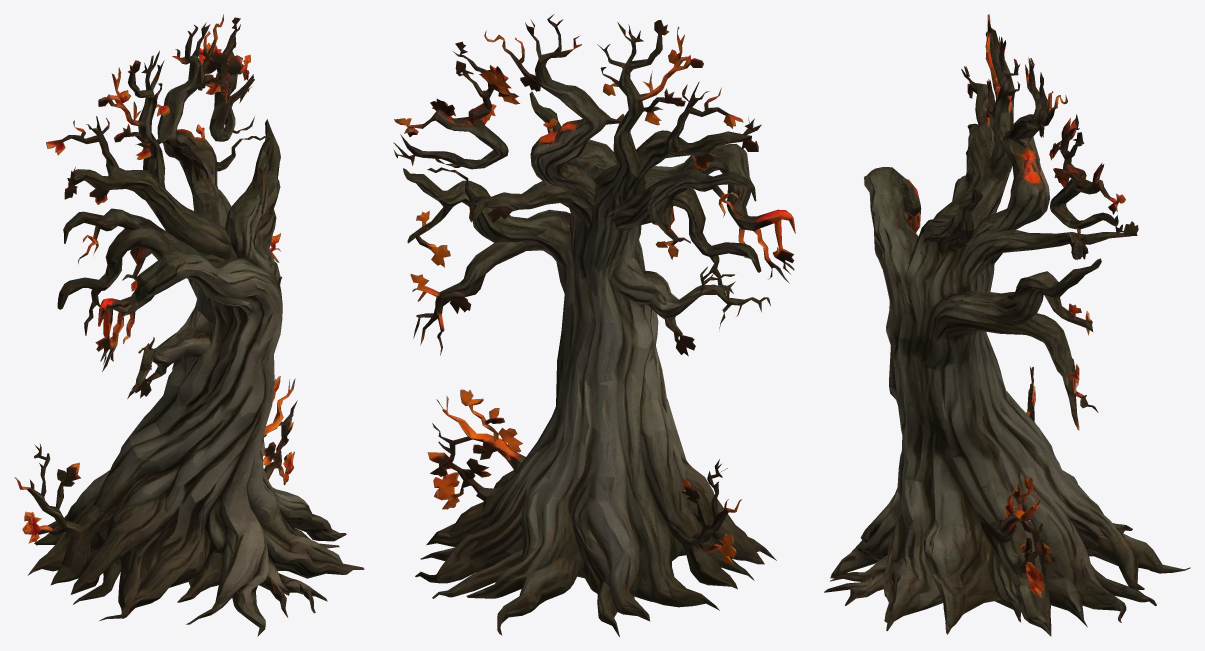
Rendered from gushu.glb.
3 views of the same model, side by side, from view 1: azimuth 30°, elevation 25°; view 2: azimuth 150°, elevation 25°; view 3: azimuth 270°, elevation 25° (orthographic). The views are drawn at different scales.
Size of the model in its own units: 1.09 by 1.89 by 1.17.
1 material, 1 textured.
